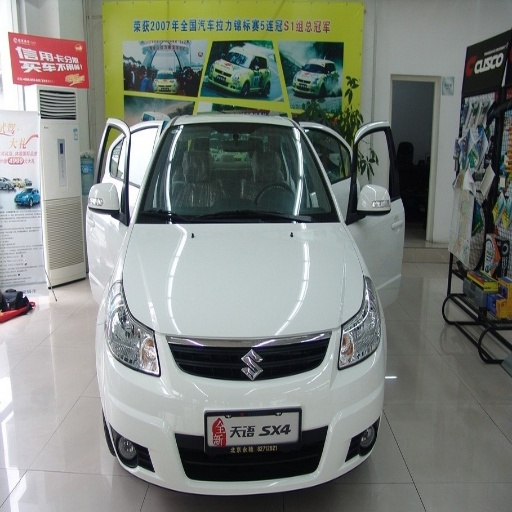front_bumper: (101, 327, 380, 491)
front_right_light: (103, 281, 159, 375)
hood: (123, 223, 363, 341)
left_mirror: (347, 184, 392, 223)
